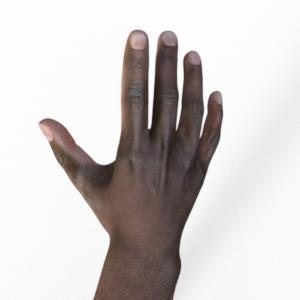paper: (39, 30, 222, 300)
